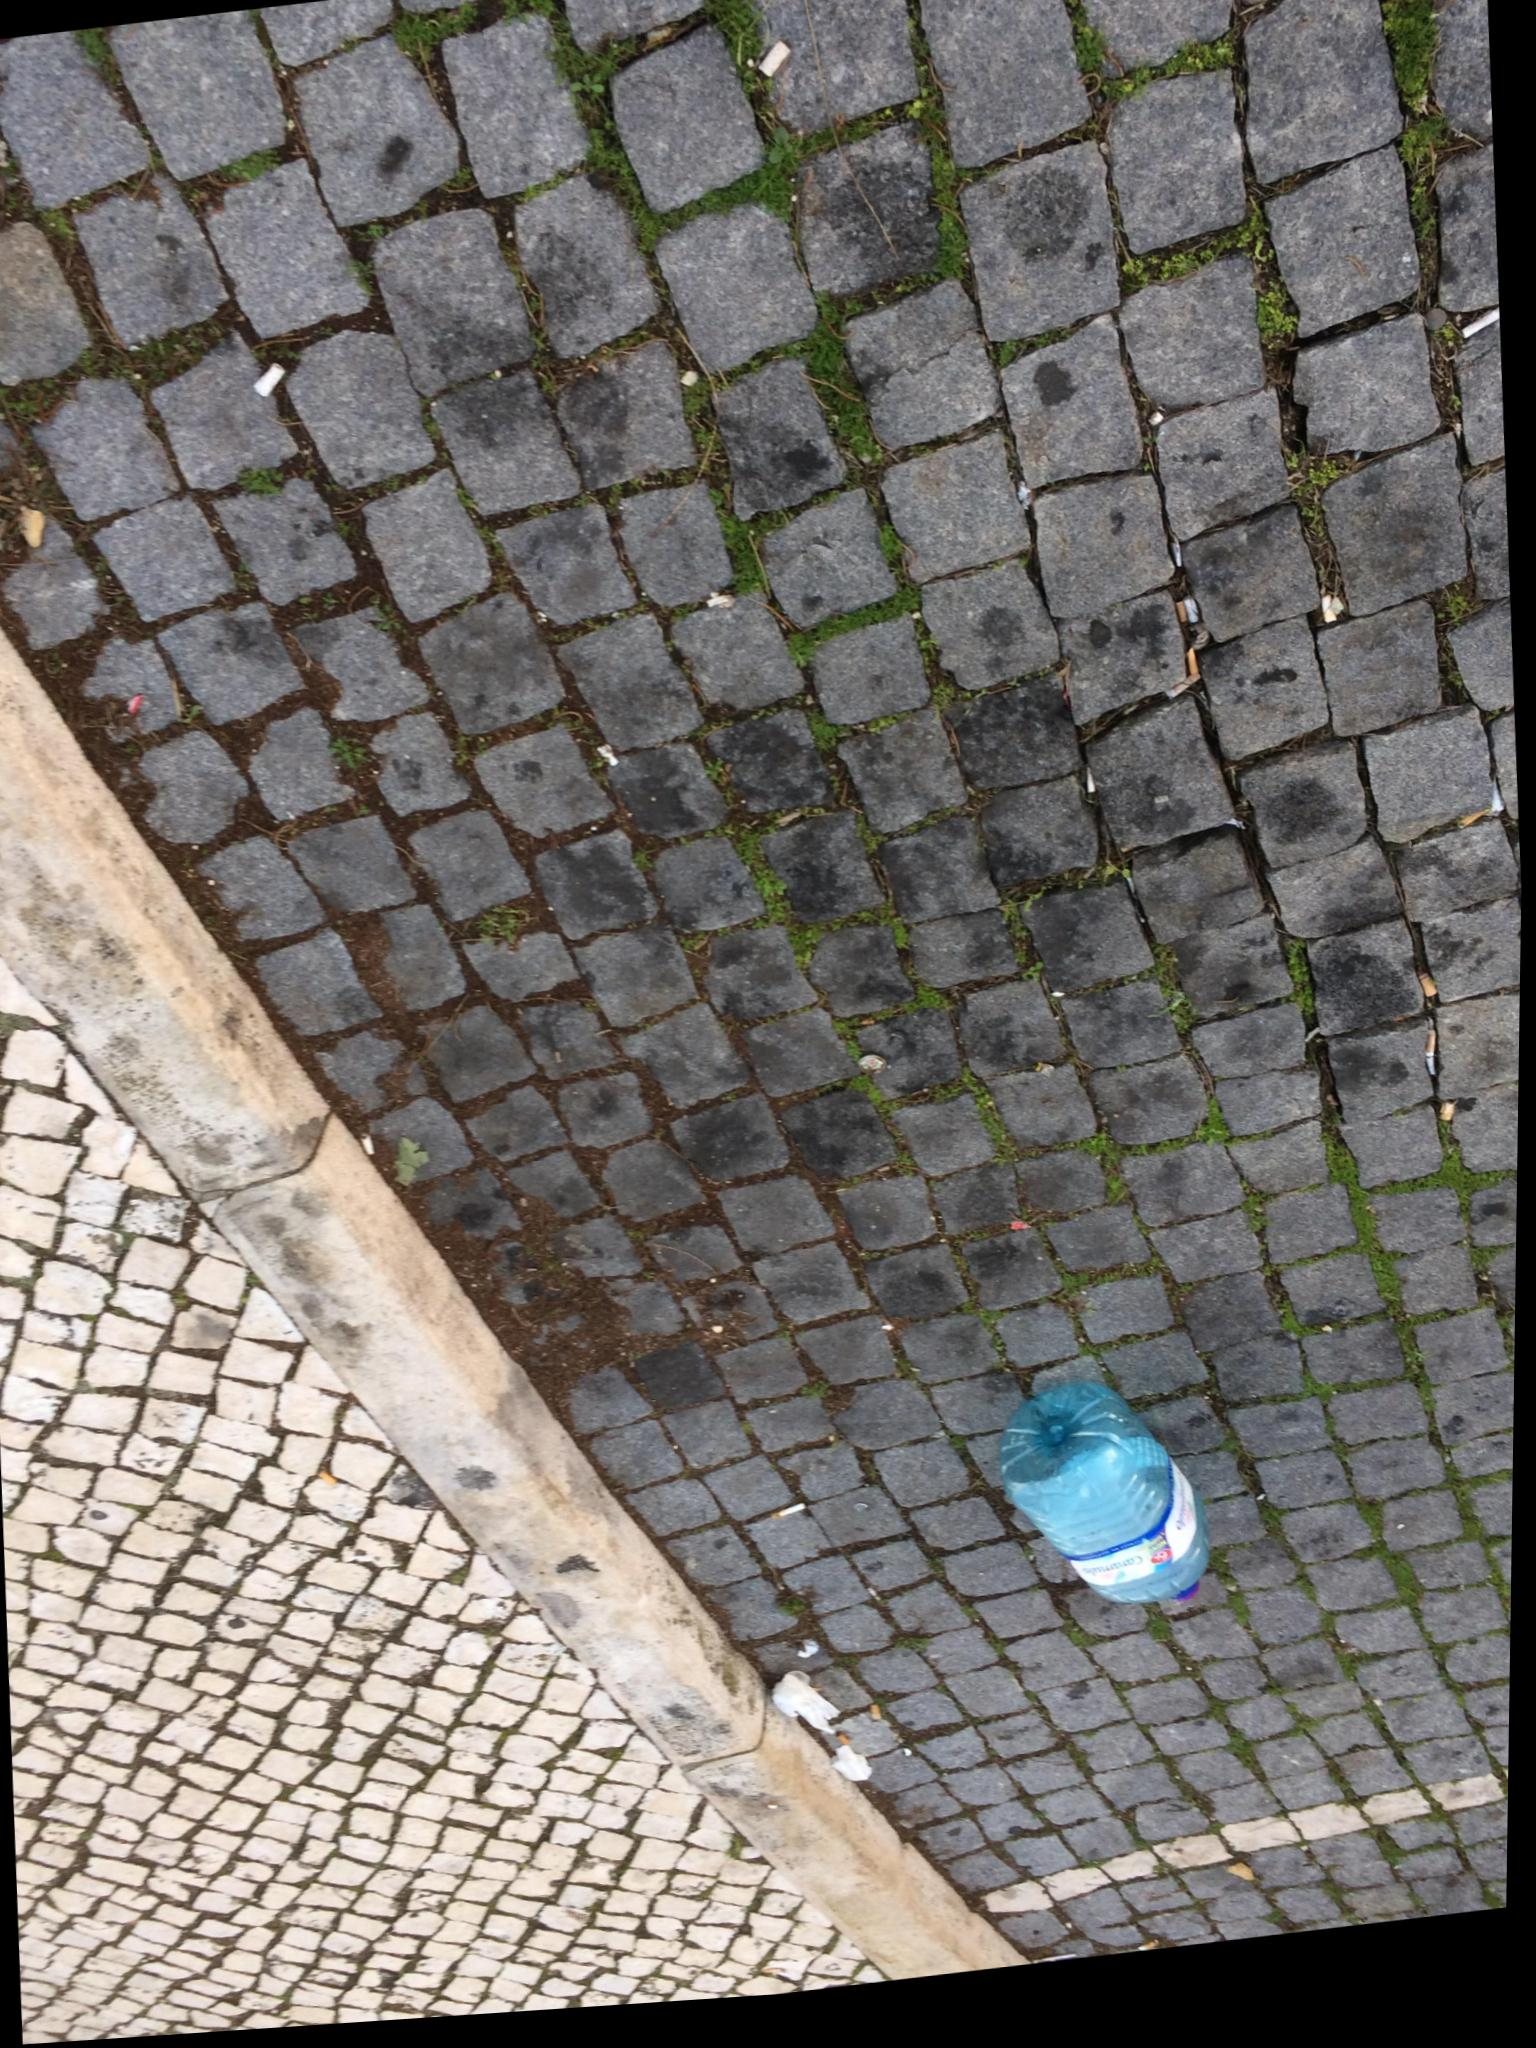plastic: (1000, 1380, 1208, 1601)
